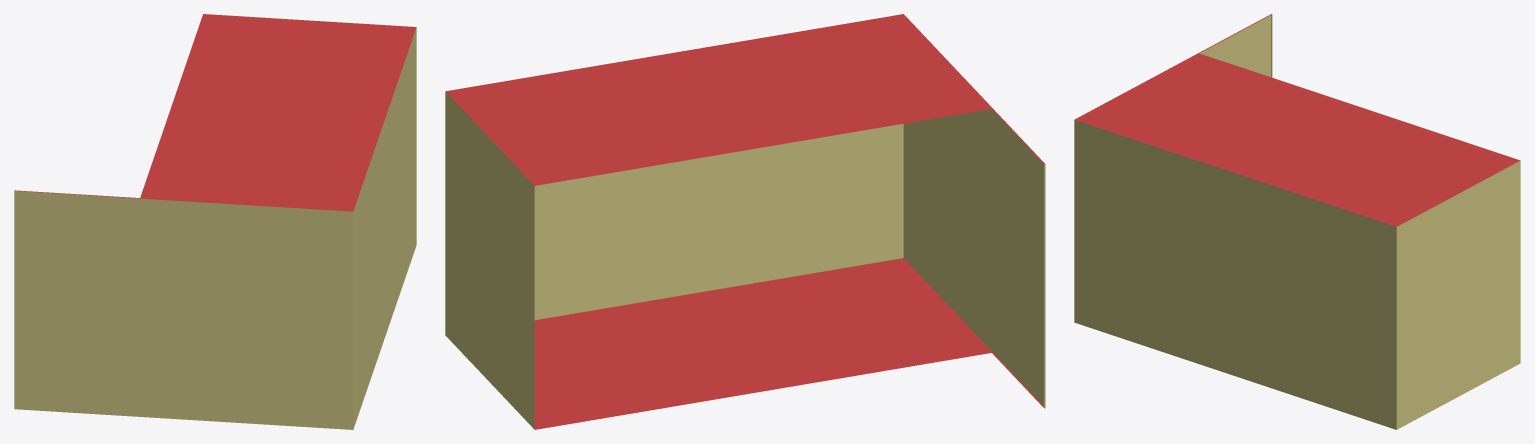
3 views of the same model, side by side, from view 1: azimuth 30°, elevation 25°; view 2: azimuth 150°, elevation 25°; view 3: azimuth 270°, elevation 25° (orthographic). The views are drawn at different scales.
Parts seen in each view (by area): view 1: group_4, group_3; view 2: group_4, group_3, group_5; view 3: group_4, group_3.
Boxes of the visible parts, x1,y1,x2,y2 form: group_4: (14, 27, 416, 429); group_3: (14, 14, 416, 211); group_4: (445, 91, 1045, 429); group_3: (446, 14, 1045, 185); group_5: (534, 258, 1044, 429); group_4: (1074, 14, 1520, 429); group_3: (1074, 14, 1520, 226).
Bounding box in the file's own units: 14.34 × 12.7 × 6.37.
